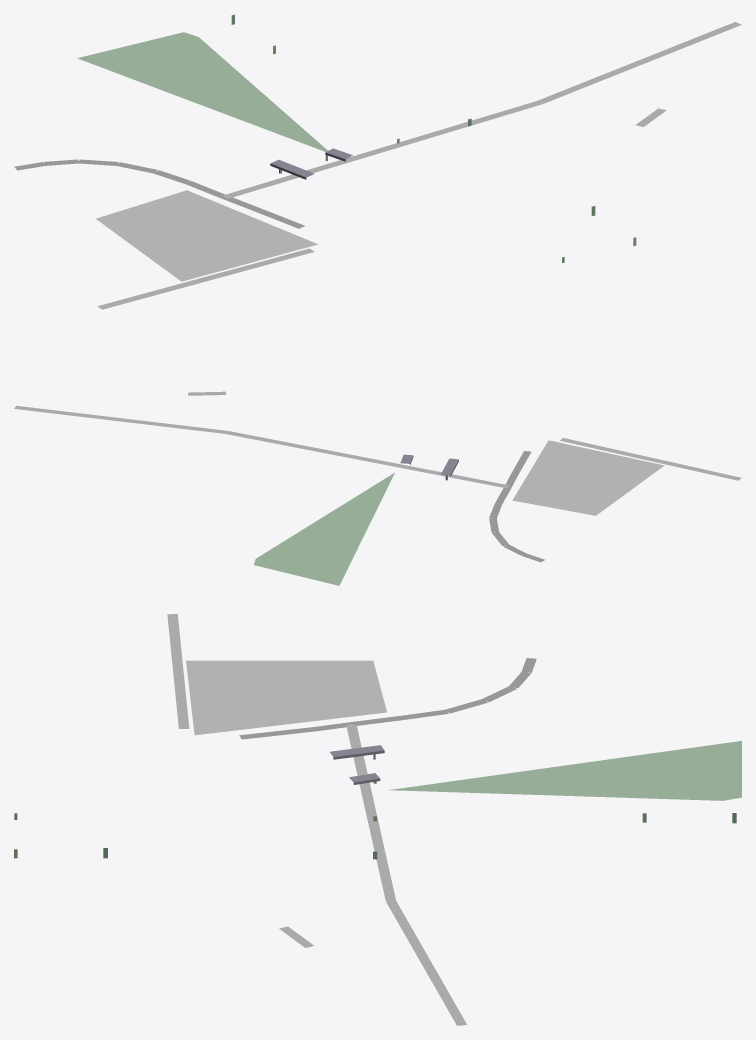
The picture shows the model from 3 angles, top to bottom: view 1: azimuth 30°, elevation 25°; view 2: azimuth 150°, elevation 25°; view 3: azimuth 270°, elevation 25°; orthographic projection. The views are drawn at different scales.
Size of the model in its own units: 649 by 9.89 by 486.
